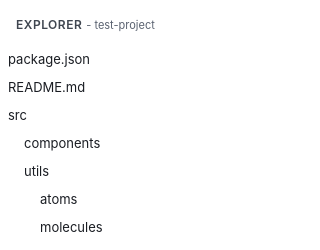
Test: CodeSidebar.vue › should maintain context menu state correctly
// Show context menu
Right-click the element with class "file-item" showing "package.json" at (49, 59), box [8,51,90,67]
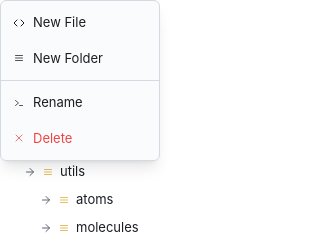
Now the element with class "context-menu" is shown, box [0,0,160,161]
